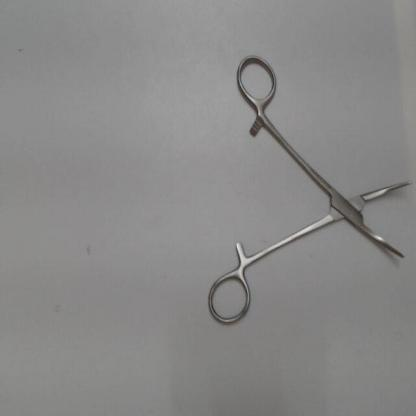Crile Artery Forceps: (204, 49, 414, 330)
